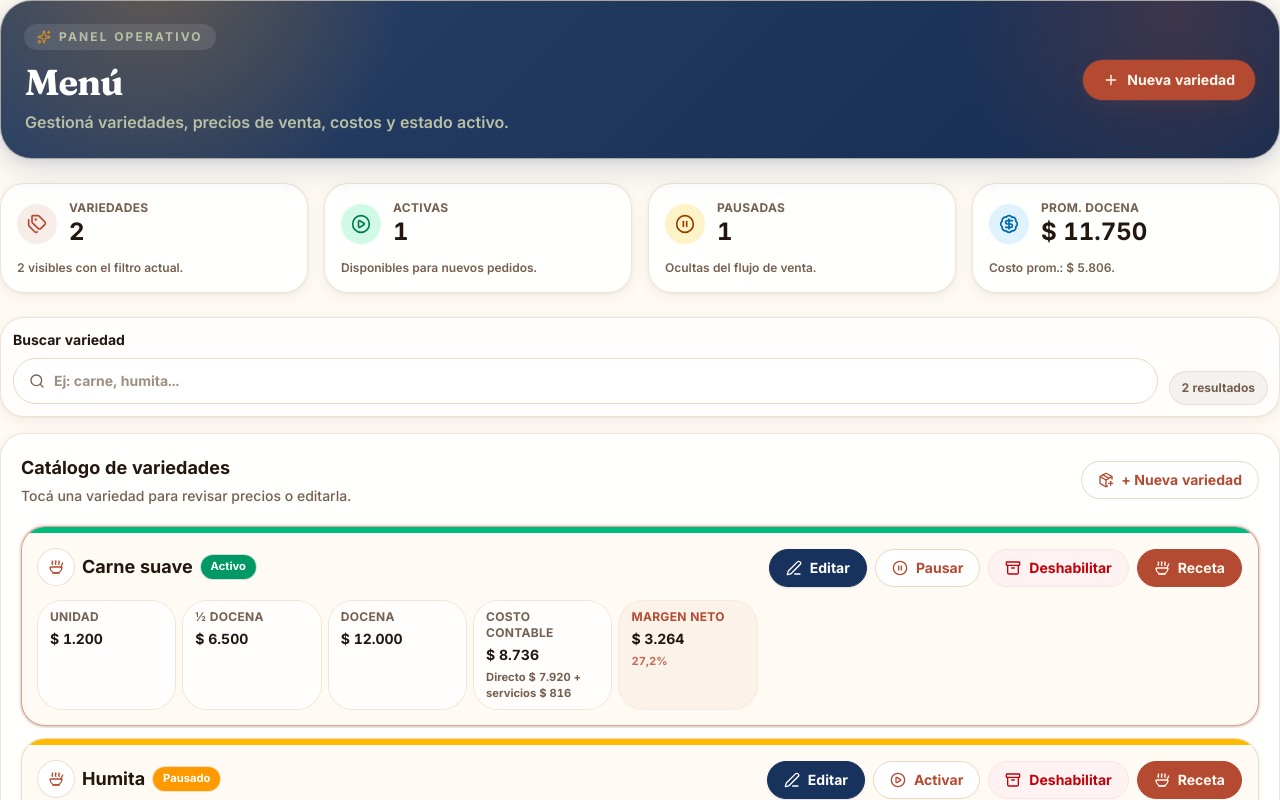
Test case: MenuPage › opens the edit form as a full-screen panel on mobile
What coordinates should you click on to do the following:
click the 1st button "Editar"
I would click on:
 (818, 568)
Its box is [769,549,867,587].
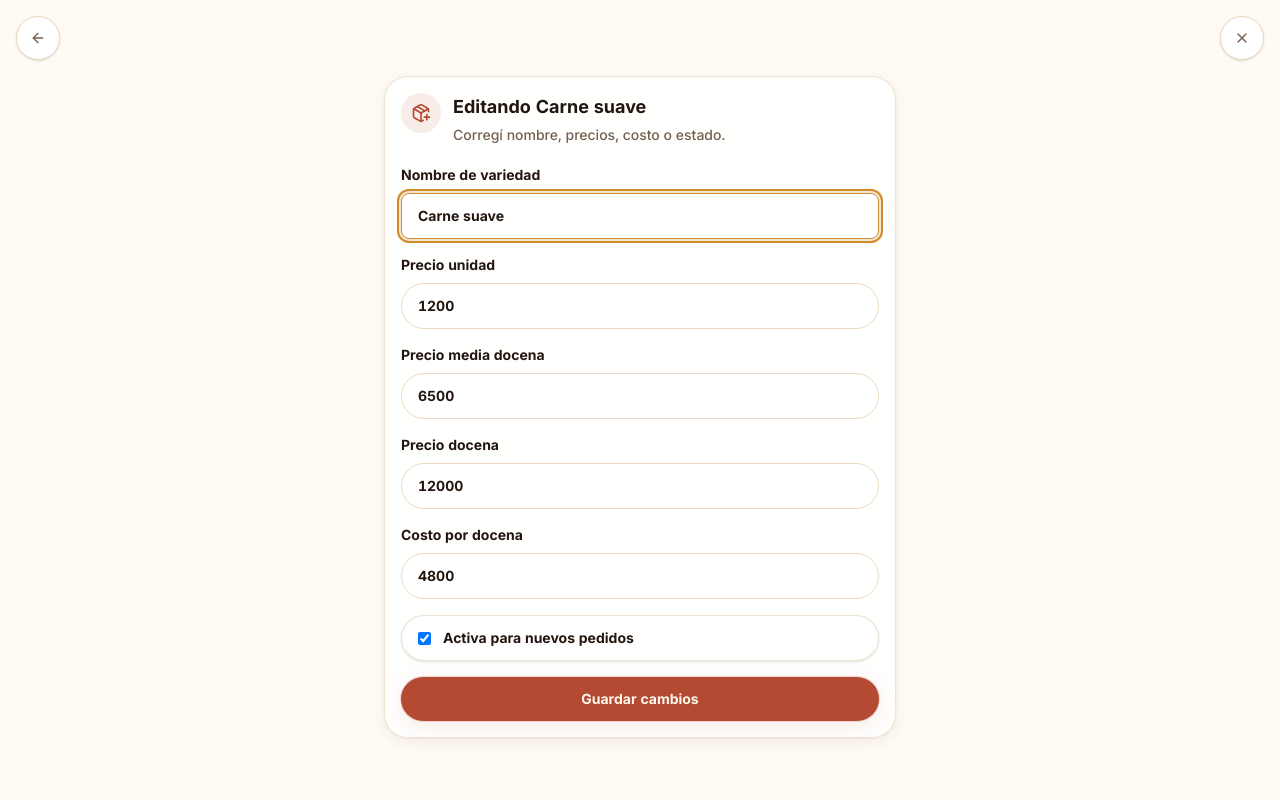
Expected: the element named "formulario de edición de variedad" shows "Editando Carne suave", [453,96,646,117]
Expected: the button named "volver" is shown, [16,16,60,60]
Expected: the field labelled "Nombre de variedad" holds "Carne suave", [401,193,879,239]
